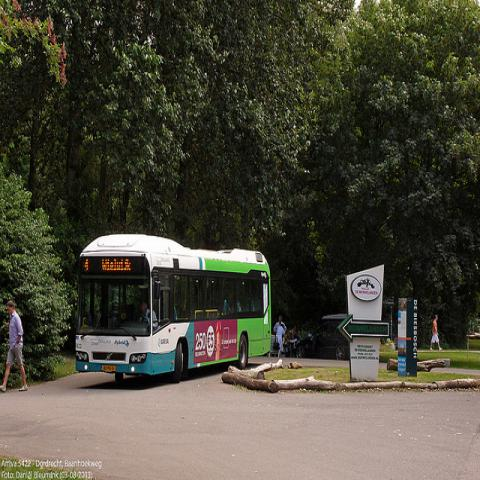bus: (75, 231, 272, 382)
car: (295, 323, 349, 359)
